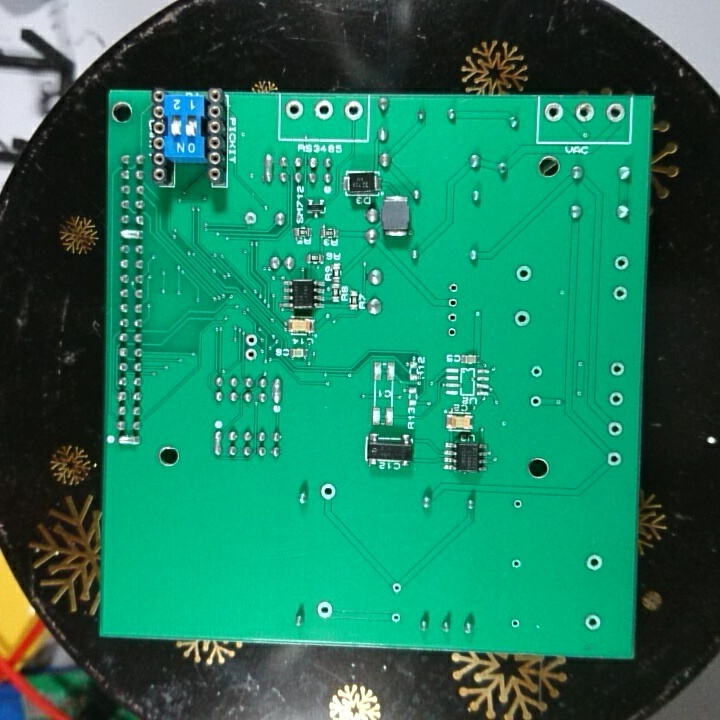F: (602, 99, 627, 129), (541, 100, 569, 126), (311, 97, 334, 126), (315, 595, 338, 623), (282, 96, 305, 124), (341, 99, 366, 124), (582, 549, 605, 576), (573, 100, 596, 125), (241, 207, 261, 232), (605, 358, 627, 380), (512, 309, 534, 330), (514, 261, 534, 284), (317, 480, 337, 503), (606, 417, 625, 441), (583, 610, 601, 635), (612, 253, 633, 274), (604, 448, 624, 470), (607, 389, 626, 410), (244, 347, 263, 365), (611, 283, 628, 303), (527, 392, 544, 411), (530, 360, 544, 383), (388, 578, 404, 598), (509, 495, 524, 515), (507, 615, 523, 633), (244, 331, 260, 349), (446, 280, 462, 296), (389, 609, 402, 627), (447, 309, 461, 325), (445, 323, 459, 339), (509, 555, 524, 569), (447, 296, 461, 309)
P: (260, 150, 276, 188), (117, 226, 144, 245), (118, 432, 141, 449), (270, 376, 283, 404), (213, 429, 224, 457)
